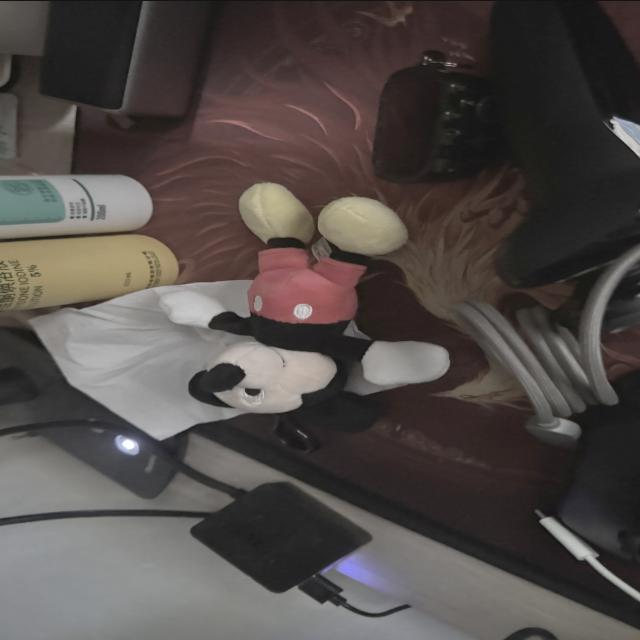mickey: (161, 183, 449, 430)
